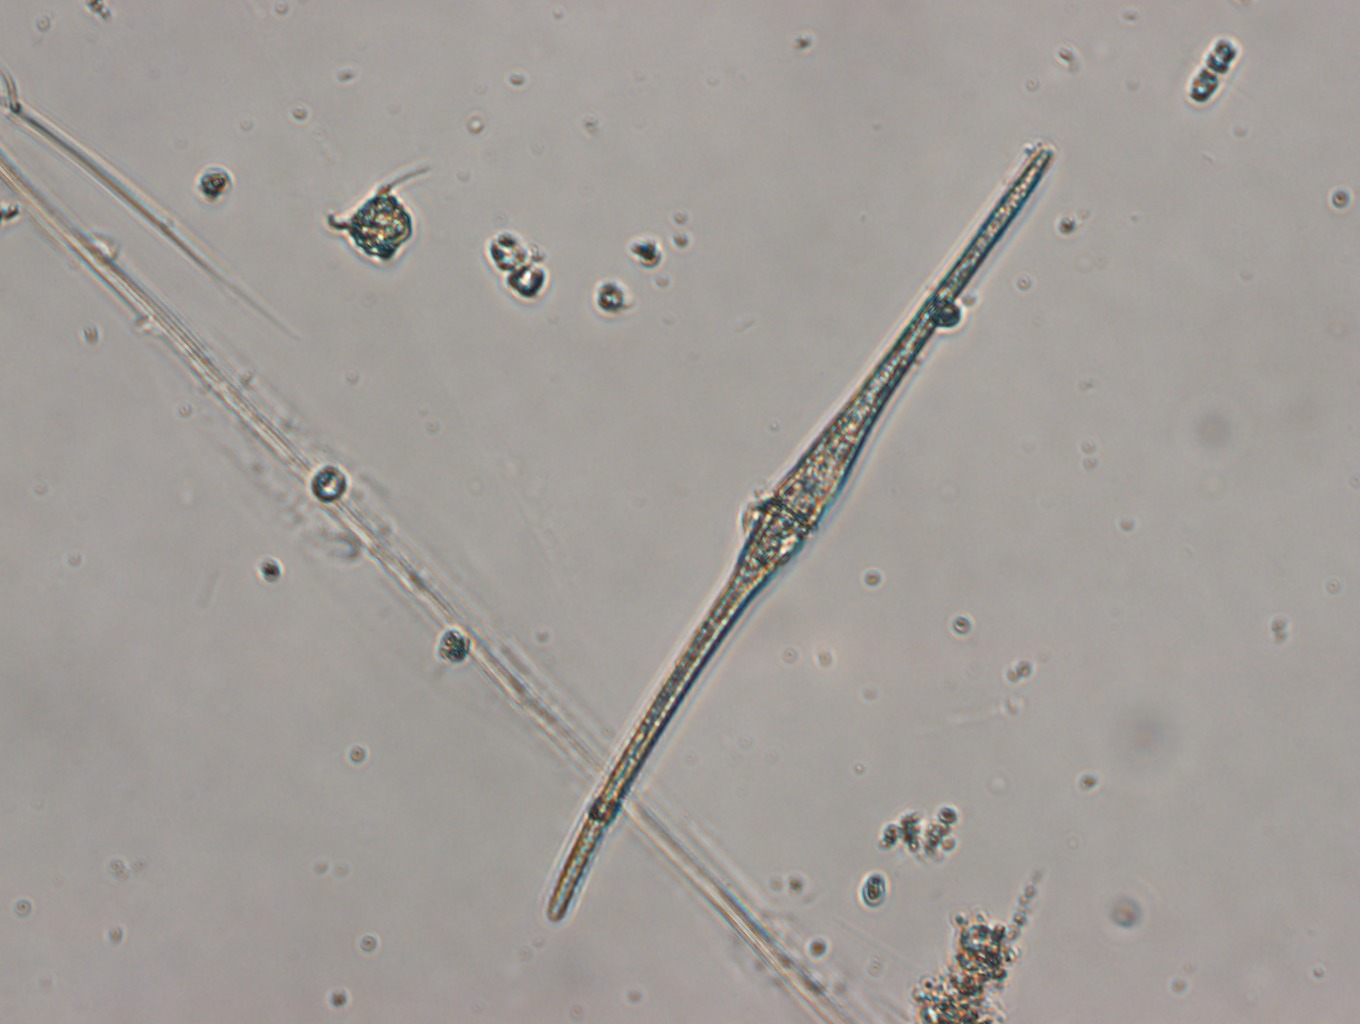ceratium fusus: (541, 140, 1054, 926)
